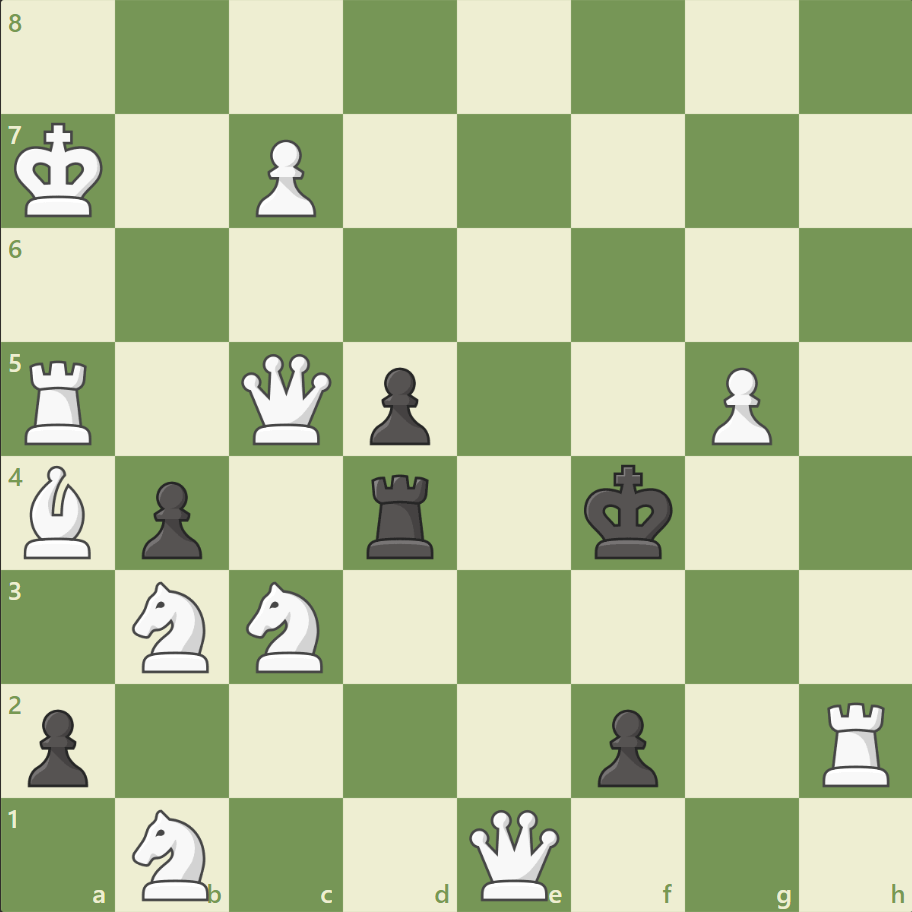B: (17, 460, 101, 563)
K: (11, 117, 111, 225)
N: (124, 575, 222, 677), (124, 802, 222, 904), (238, 575, 335, 677)
P: (247, 132, 322, 223), (701, 359, 776, 450)
Q: (237, 349, 336, 449), (464, 804, 563, 903)
R: (19, 352, 102, 449), (814, 693, 897, 790)
k: (579, 458, 679, 566)
p: (133, 473, 208, 564), (20, 700, 95, 791), (361, 359, 435, 450), (588, 700, 662, 791)
r: (360, 466, 442, 563)
